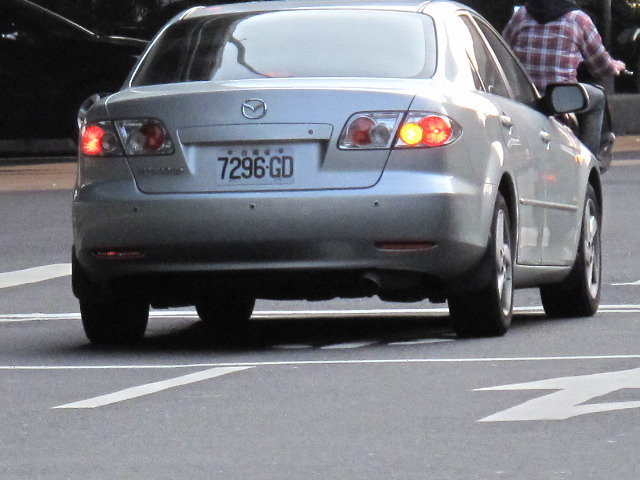plate: (212, 143, 297, 186)
